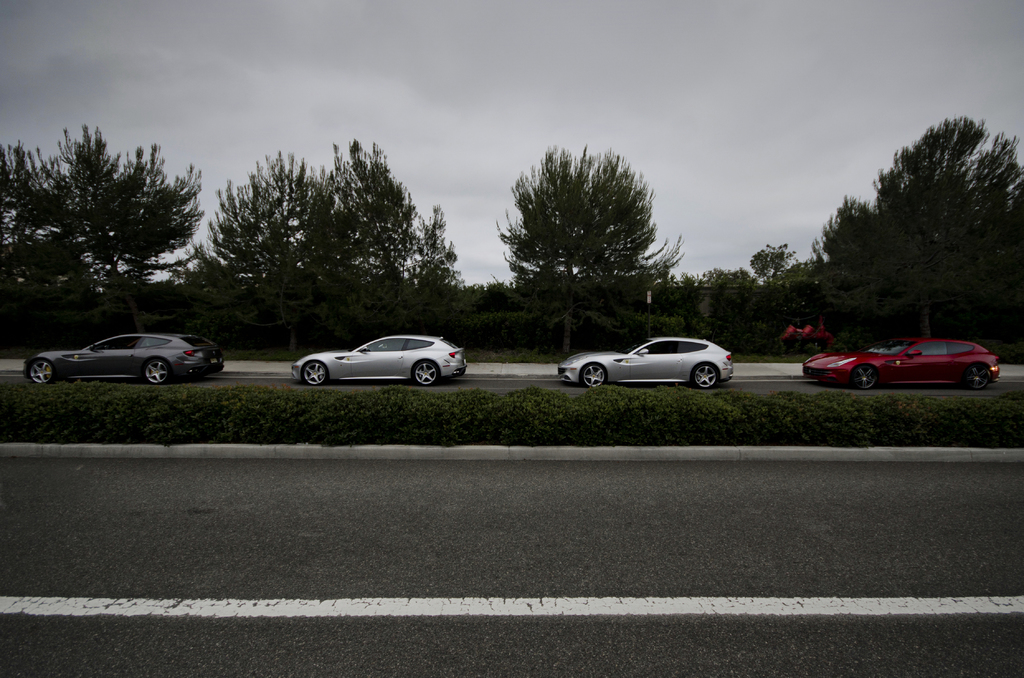Car: (293, 329, 465, 388), (801, 337, 996, 389), (19, 334, 226, 382), (551, 333, 736, 386)
